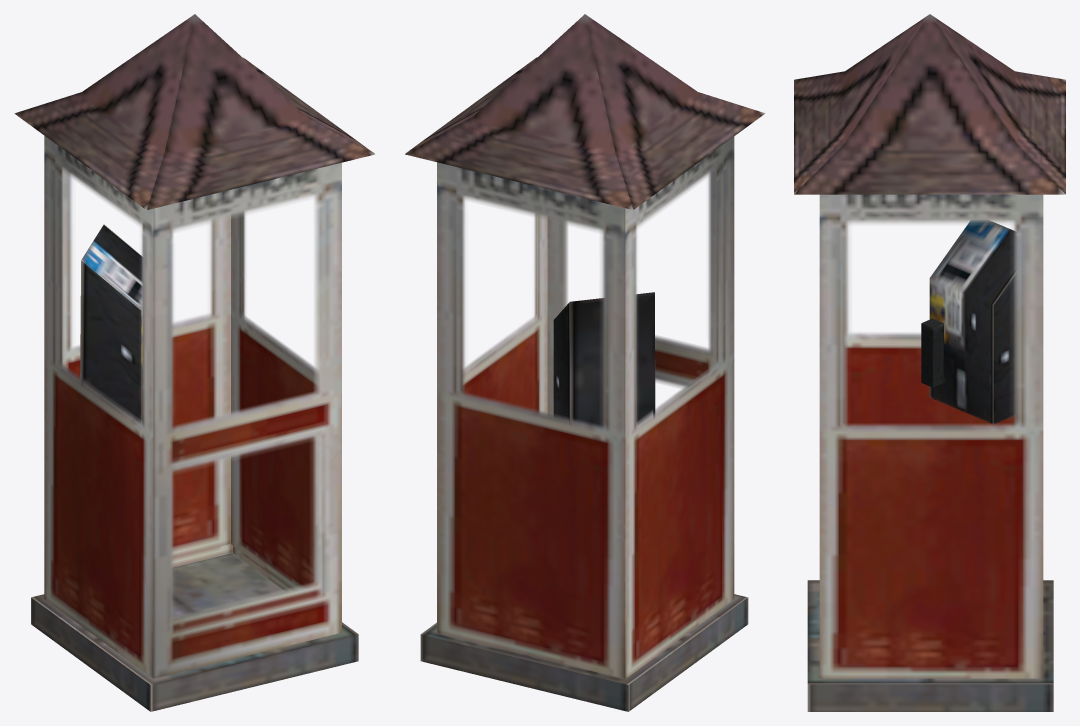
File: USA - Prop - Asian Phone Booth - PAPhonBoot.glb
The picture shows the model from 3 angles, left to right: view 1: azimuth 30°, elevation 25°; view 2: azimuth 150°, elevation 25°; view 3: azimuth 270°, elevation 25°; orthographic projection. The views are drawn at different scales.
Visible parts, largest first — view 1: PAPHONBOOT; view 2: PAPHONBOOT; view 3: PAPHONBOOT.
Boxes of the visible parts, left/top/right/bottom form: PAPHONBOOT: left=14, top=14, right=375, bottom=711; PAPHONBOOT: left=405, top=14, right=765, bottom=711; PAPHONBOOT: left=794, top=14, right=1065, bottom=711.
Bounding box in the file's own units: 7.69 × 20.18 × 7.69.
Materials: 1 (1 with a texture image).
